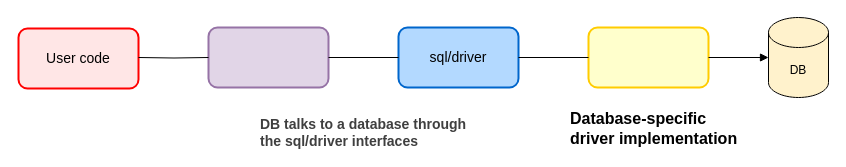
Image size: 846x167. Some labels were removed from this diagram. Each missing label, with the centre of its shape:
*sql.DB: the point at 268,57
sqlite.Driver: the point at 648,57
